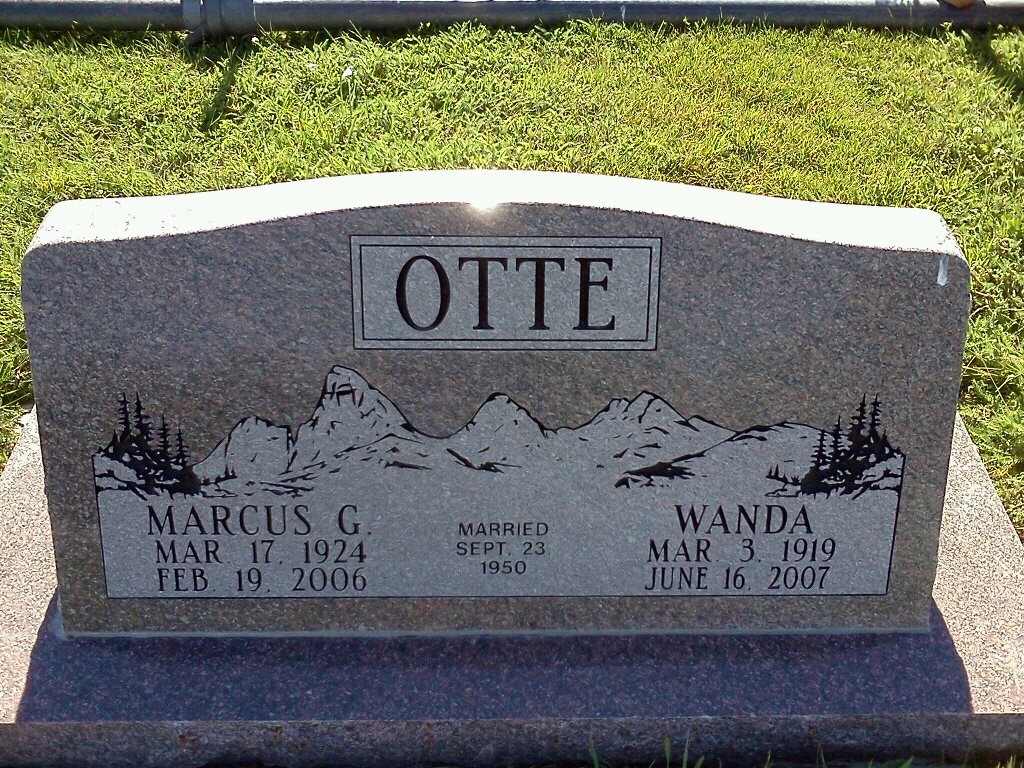upright: (9, 162, 1018, 761)
